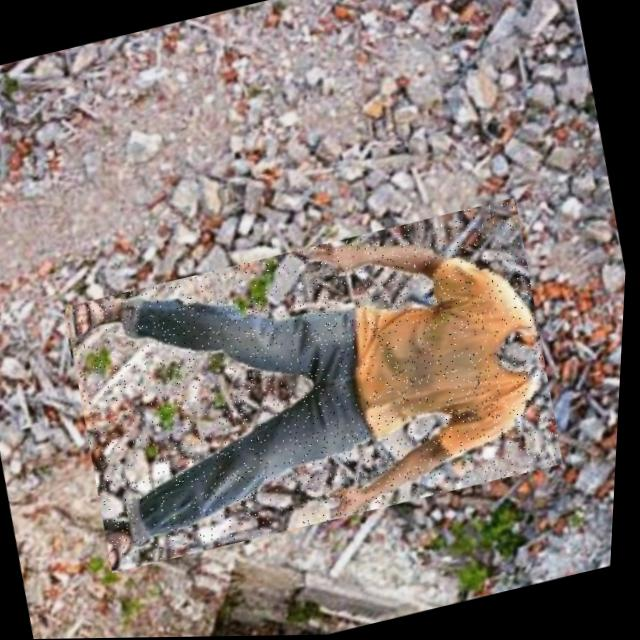Person in Rubble: (56, 198, 578, 574)
